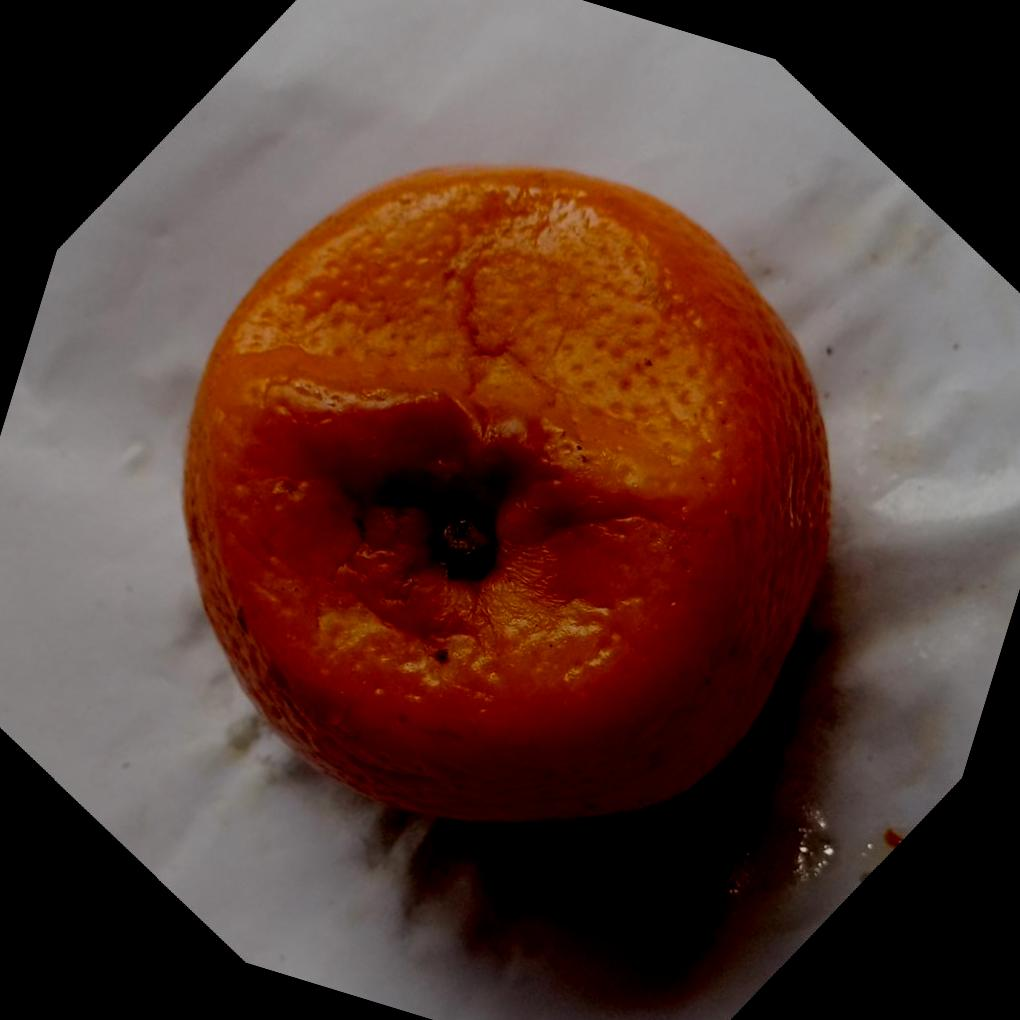FreshOrange: (183, 165, 836, 827)
